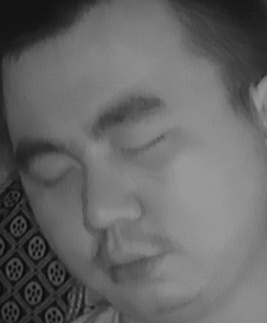blink: (116, 126, 174, 167), (34, 160, 80, 194)
mouth: (89, 239, 168, 293)
